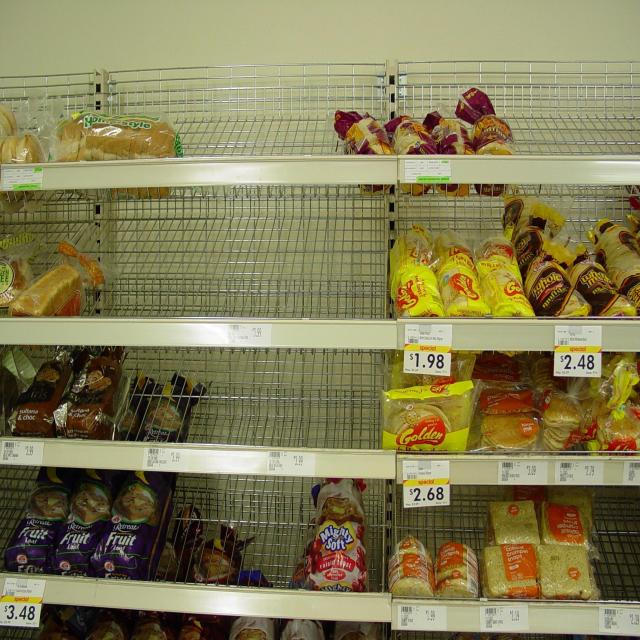void: (111, 209, 386, 319), (210, 359, 381, 443), (182, 84, 336, 152), (515, 75, 640, 155), (247, 483, 297, 573), (593, 507, 640, 601)
